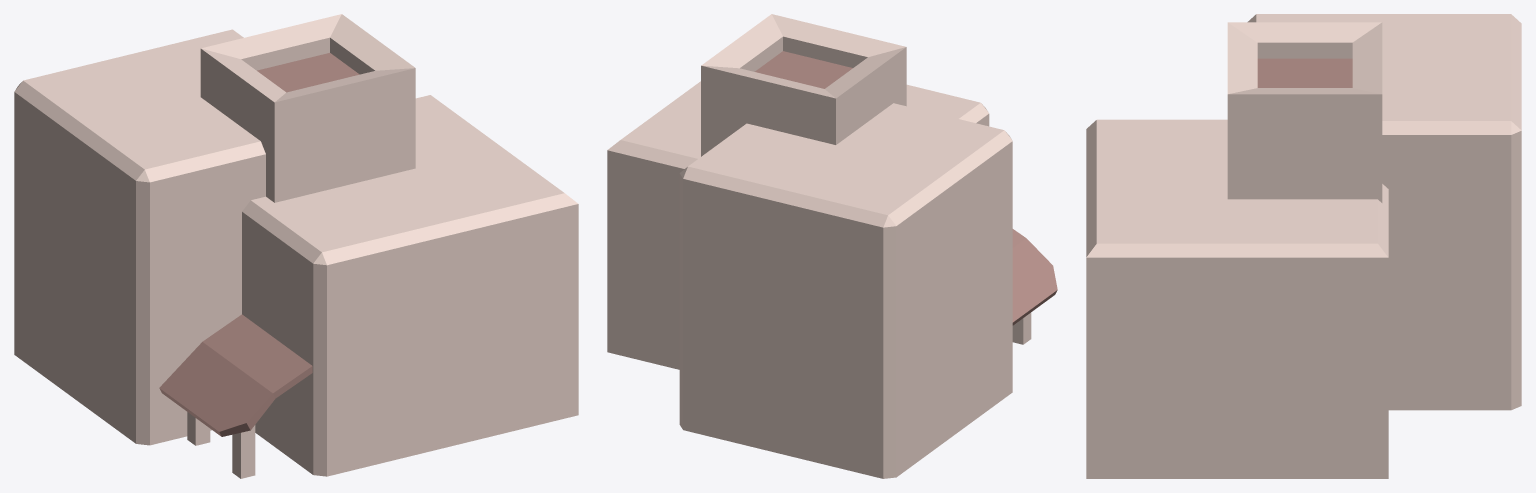
Rendered from Edificio019.FBX.
The picture shows the model from 3 angles, left to right: view 1: azimuth 30°, elevation 25°; view 2: azimuth 150°, elevation 25°; view 3: azimuth 270°, elevation 25°; orthographic projection. The views are drawn at different scales.
Visible parts, largest first — view 1: Edificio002; view 2: Edificio002; view 3: Edificio002.
Boxes of the visible parts, x1,y1,x2,y2 form: Edificio002: (14,14,578,478); Edificio002: (607,14,1057,478); Edificio002: (1086,14,1521,478).
Size of the model in its own units: 1058 by 898 by 1055.
